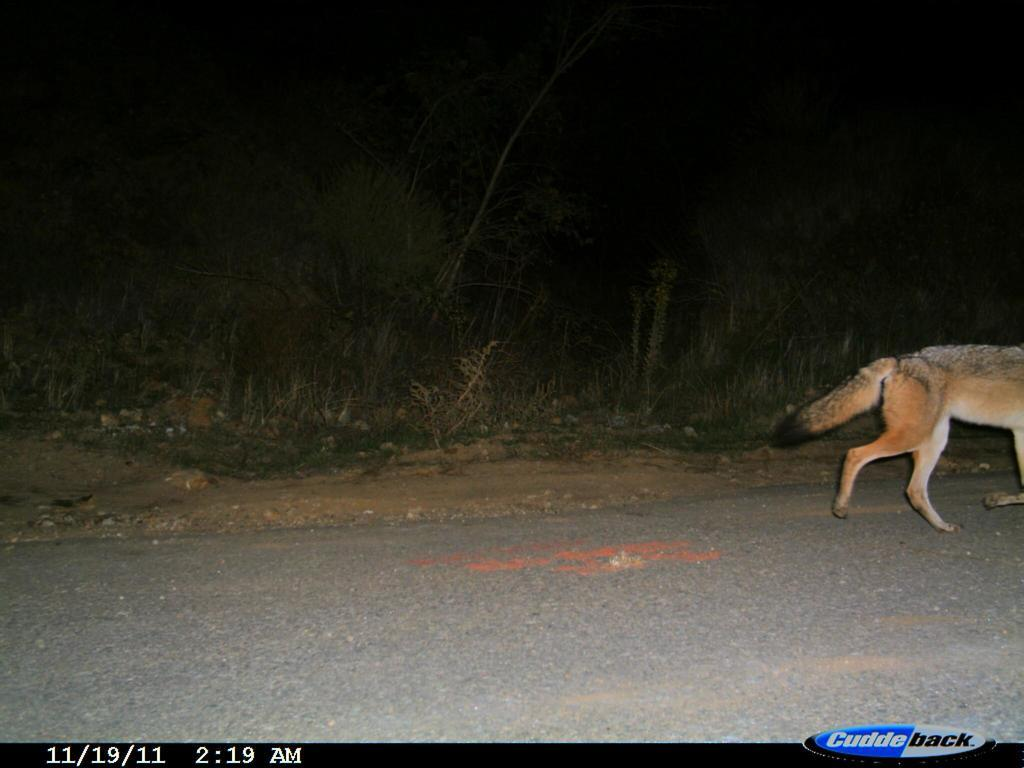coyote: (767, 336, 1022, 538)
